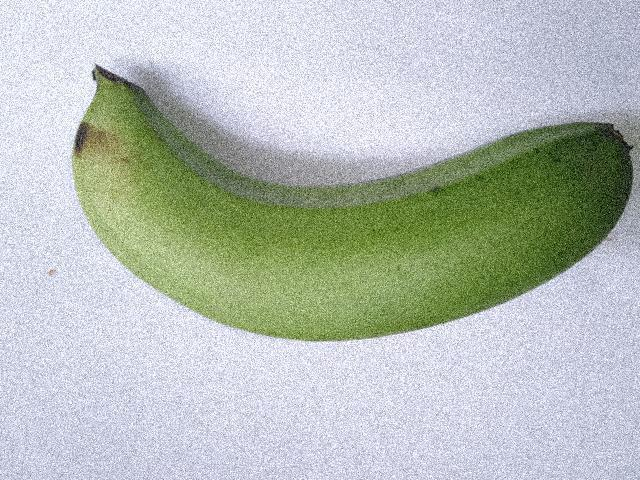freshunripe: (49, 52, 639, 344)
